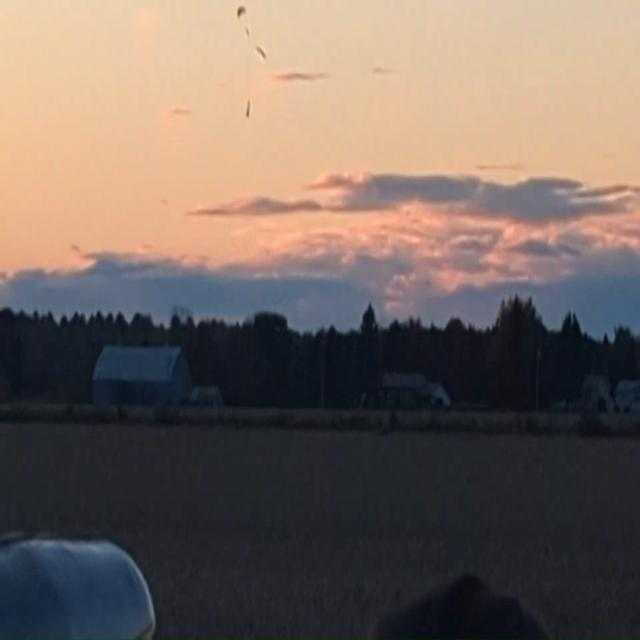Rocket: (246, 99, 250, 118)
